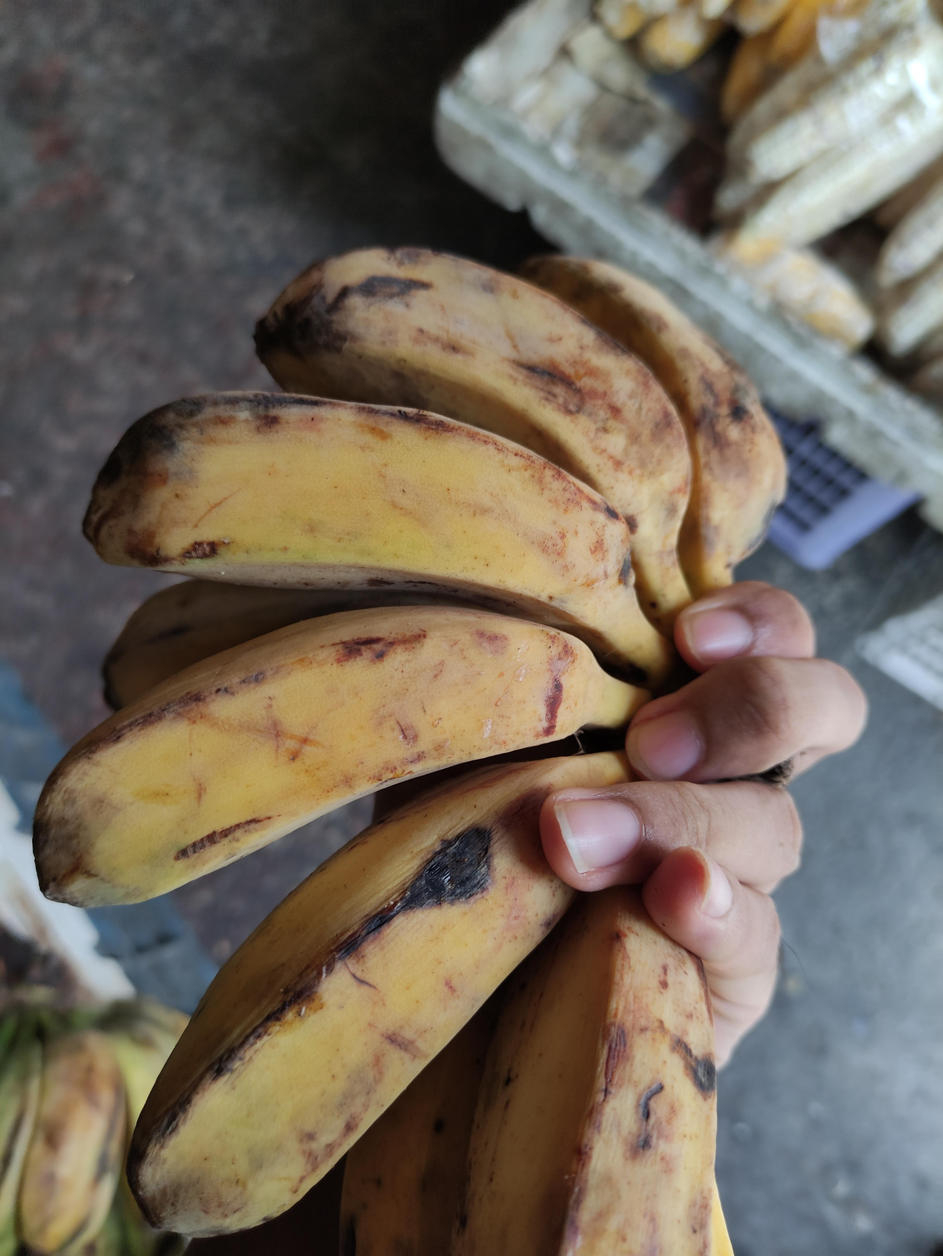ripe: (33, 249, 786, 1256)
